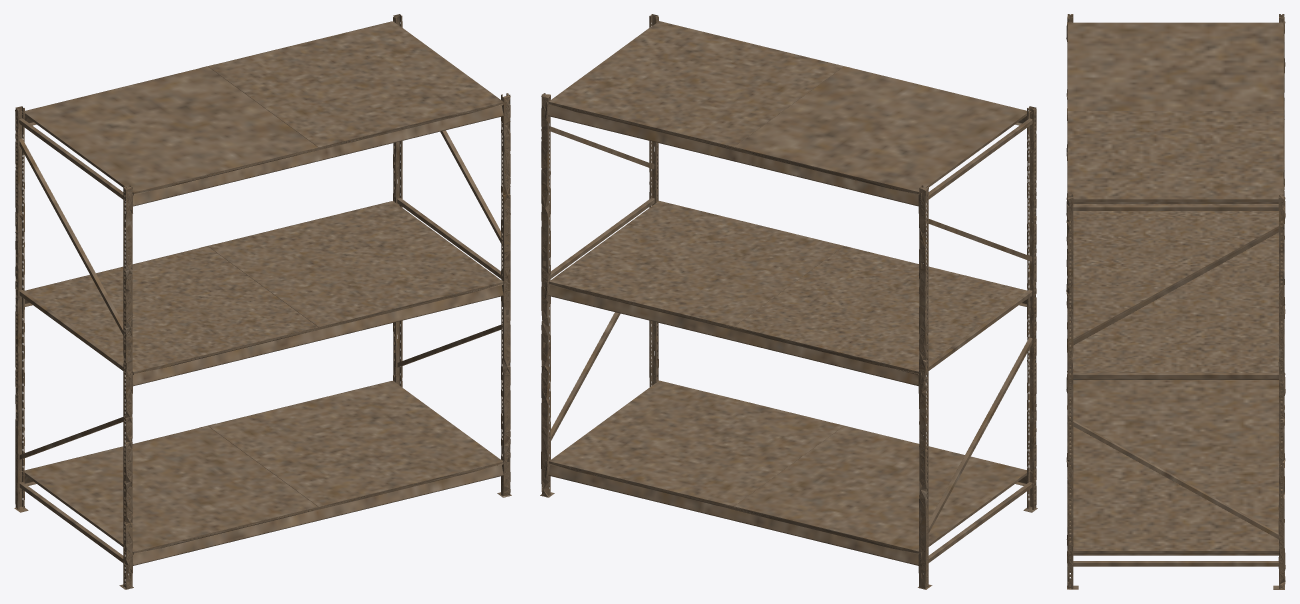
The model's file is rack_bulk_storage_a03.glb.
3 renders of one model, left to right at view 1: azimuth 30°, elevation 25°; view 2: azimuth 150°, elevation 25°; view 3: azimuth 270°, elevation 25°, orthographic. The views are drawn at different scales.
Visible parts, largest first — view 1: geometry_0; view 2: geometry_0; view 3: geometry_0.
Boxes of the visible parts, bbox=[...] form: geometry_0: bbox=[14, 14, 511, 589]; geometry_0: bbox=[540, 14, 1037, 589]; geometry_0: bbox=[1066, 14, 1285, 589].
Bounding box in the file's own units: 0.42 × 0.416 × 0.2108.
1 material, 1 textured.
